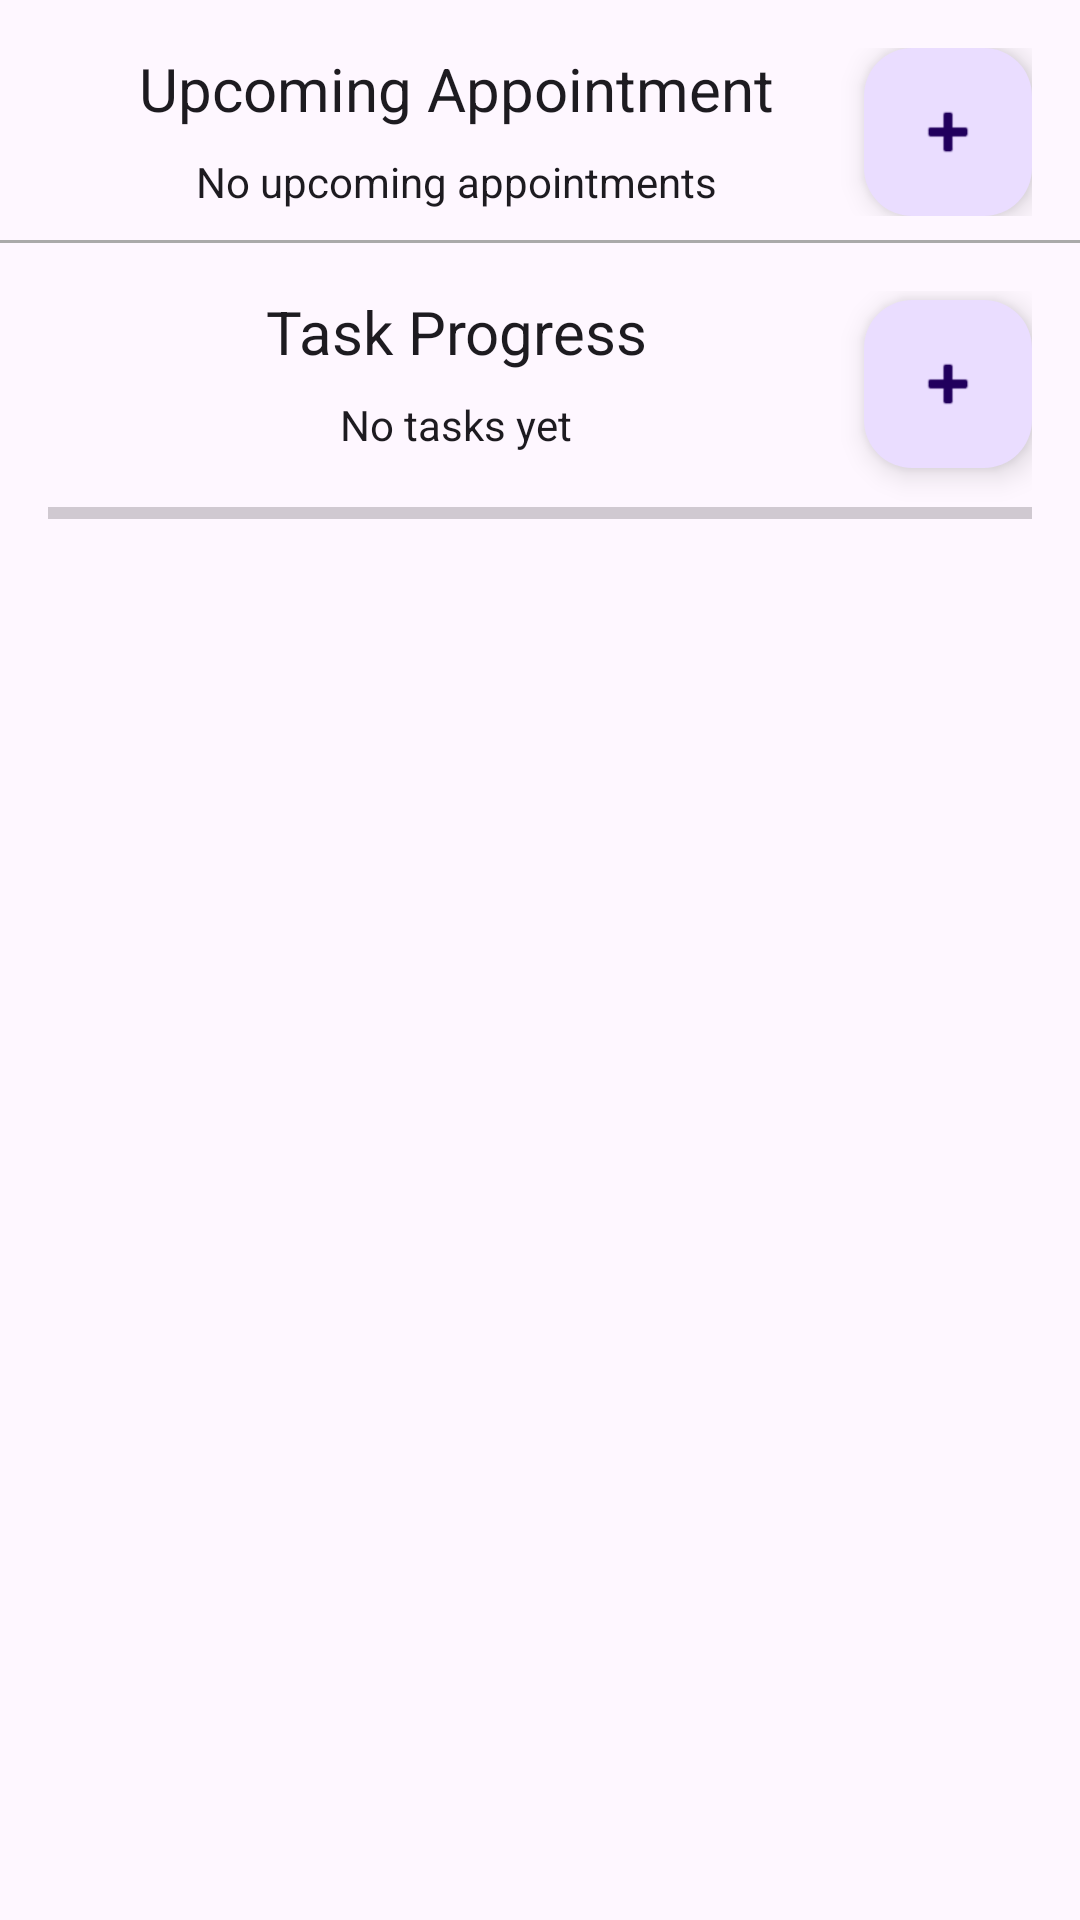

Locate icon controls on the screen. Image size 1080*1920, boxes as (x1, y1, x2, y2).
Add appointment: (864, 48, 1032, 216)
Add task: (864, 300, 1032, 468)
